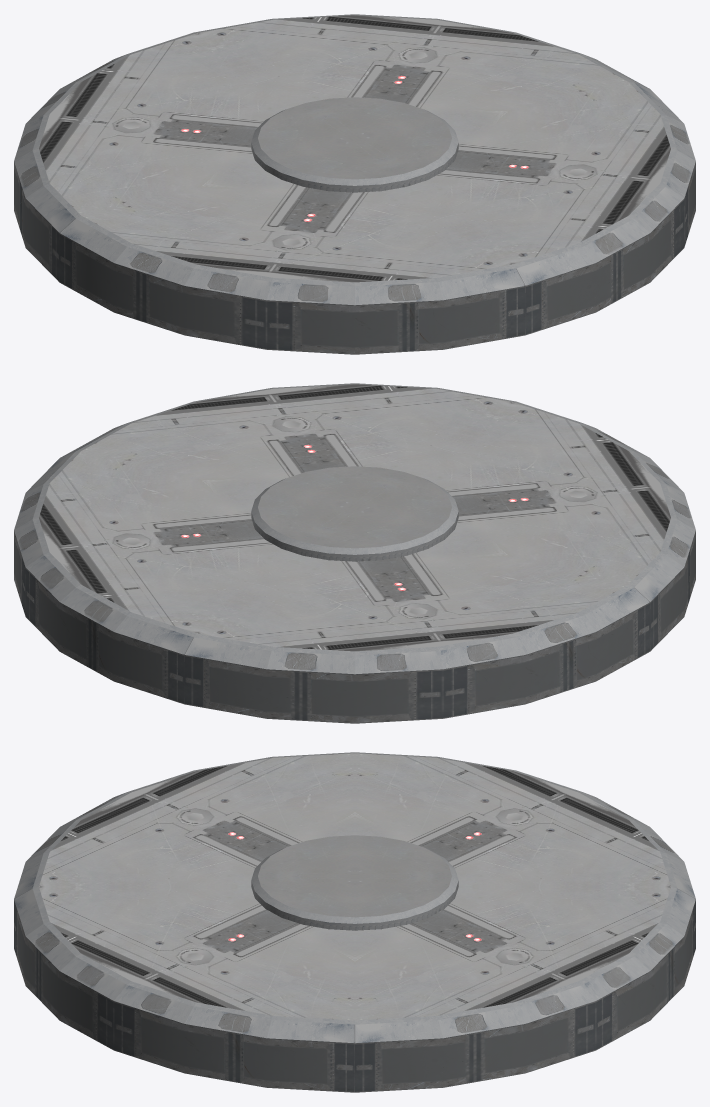
The model's file is SM_SRounded2.fbx.
3 views of the same model, one above another, from view 1: azimuth 30°, elevation 25°; view 2: azimuth 150°, elevation 25°; view 3: azimuth 270°, elevation 25° (orthographic).
Parts seen in each view (by area): view 1: SM_SRounded2_LOD0; view 2: SM_SRounded2_LOD0; view 3: SM_SRounded2_LOD0.
Boxes of the visible parts, bbox=[...] form: SM_SRounded2_LOD0: bbox=[14, 14, 695, 354]; SM_SRounded2_LOD0: bbox=[14, 383, 695, 723]; SM_SRounded2_LOD0: bbox=[14, 752, 695, 1092].
Size of the model in its own units: 400 by 400 by 46.81.
Materials: 3 (3 with a texture image).
